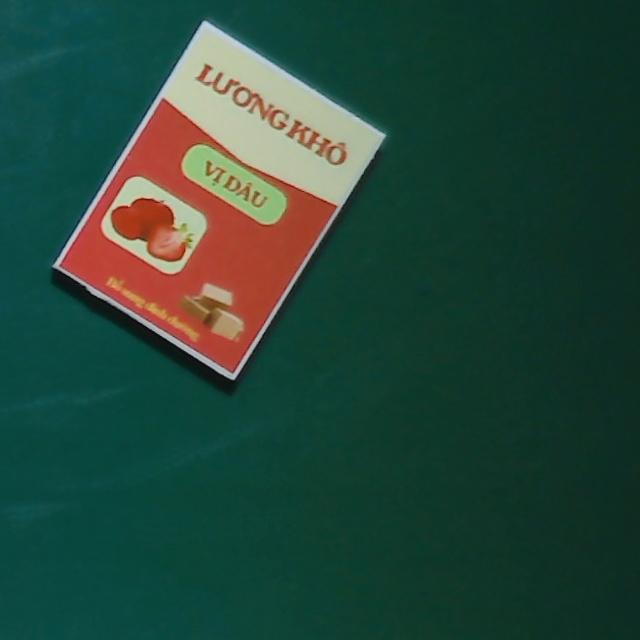dau: (50, 22, 385, 381)
